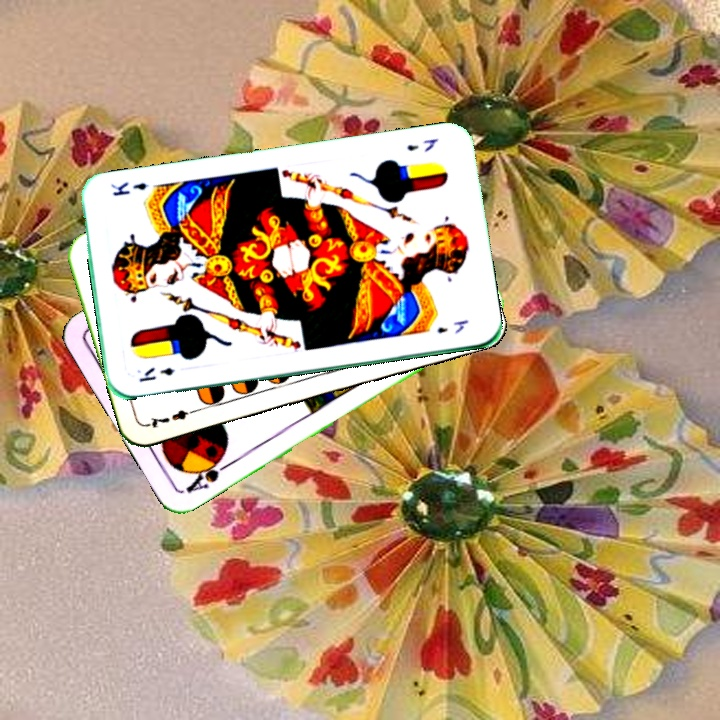E7: (144, 404, 202, 431)
EK: (135, 363, 178, 385), (403, 134, 440, 155)
SA: (181, 450, 235, 496)
